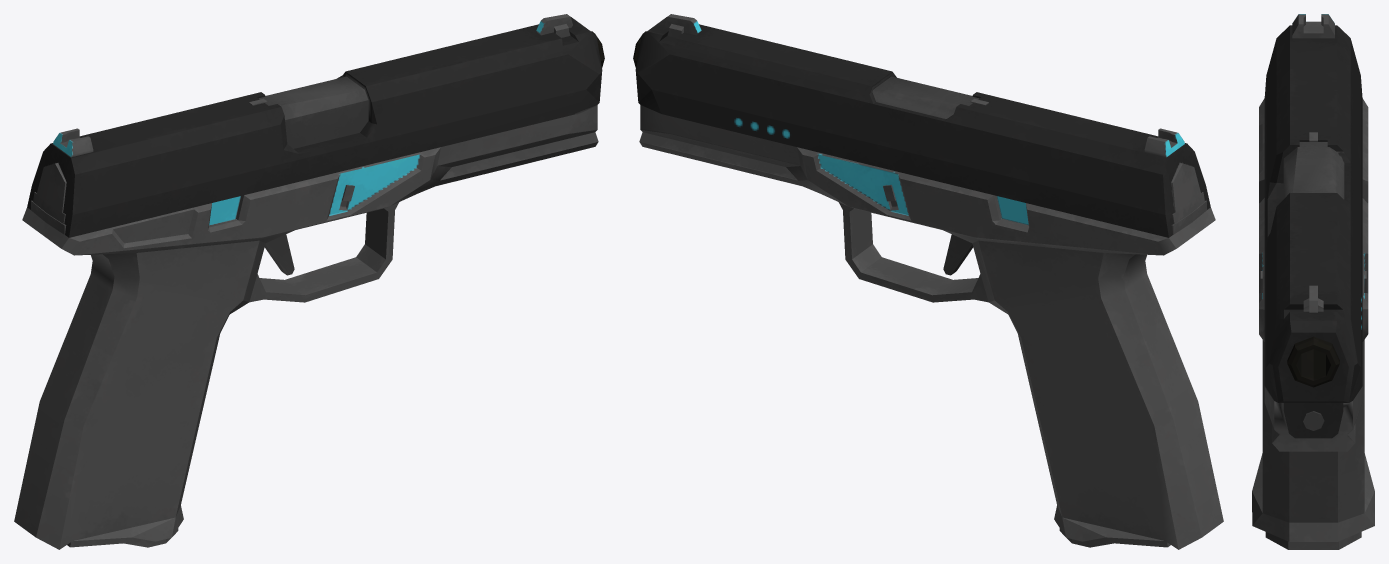
File: PistolShoot.fbx
3 renders of one model, left to right at view 1: azimuth 30°, elevation 25°; view 2: azimuth 150°, elevation 25°; view 3: azimuth 270°, elevation 25°, orthographic. The views are drawn at different scales.
Visible parts, largest first — view 1: Pistol 1; view 2: Pistol 1; view 3: Pistol 1.
Boxes of the visible parts, box(x1,y1,x2,y2) form: Pistol 1: box(14, 14, 604, 549); Pistol 1: box(633, 14, 1223, 549); Pistol 1: box(1252, 14, 1374, 549).
Size of the model in its own units: 16.38 by 11.29 by 2.62.
